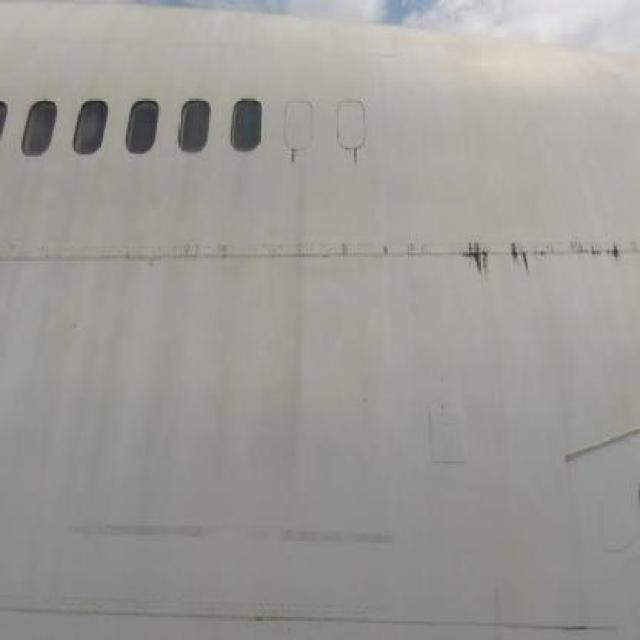Rust: (450, 230, 632, 276), (284, 145, 301, 169), (352, 152, 368, 168)
Scartch: (67, 502, 422, 562)
